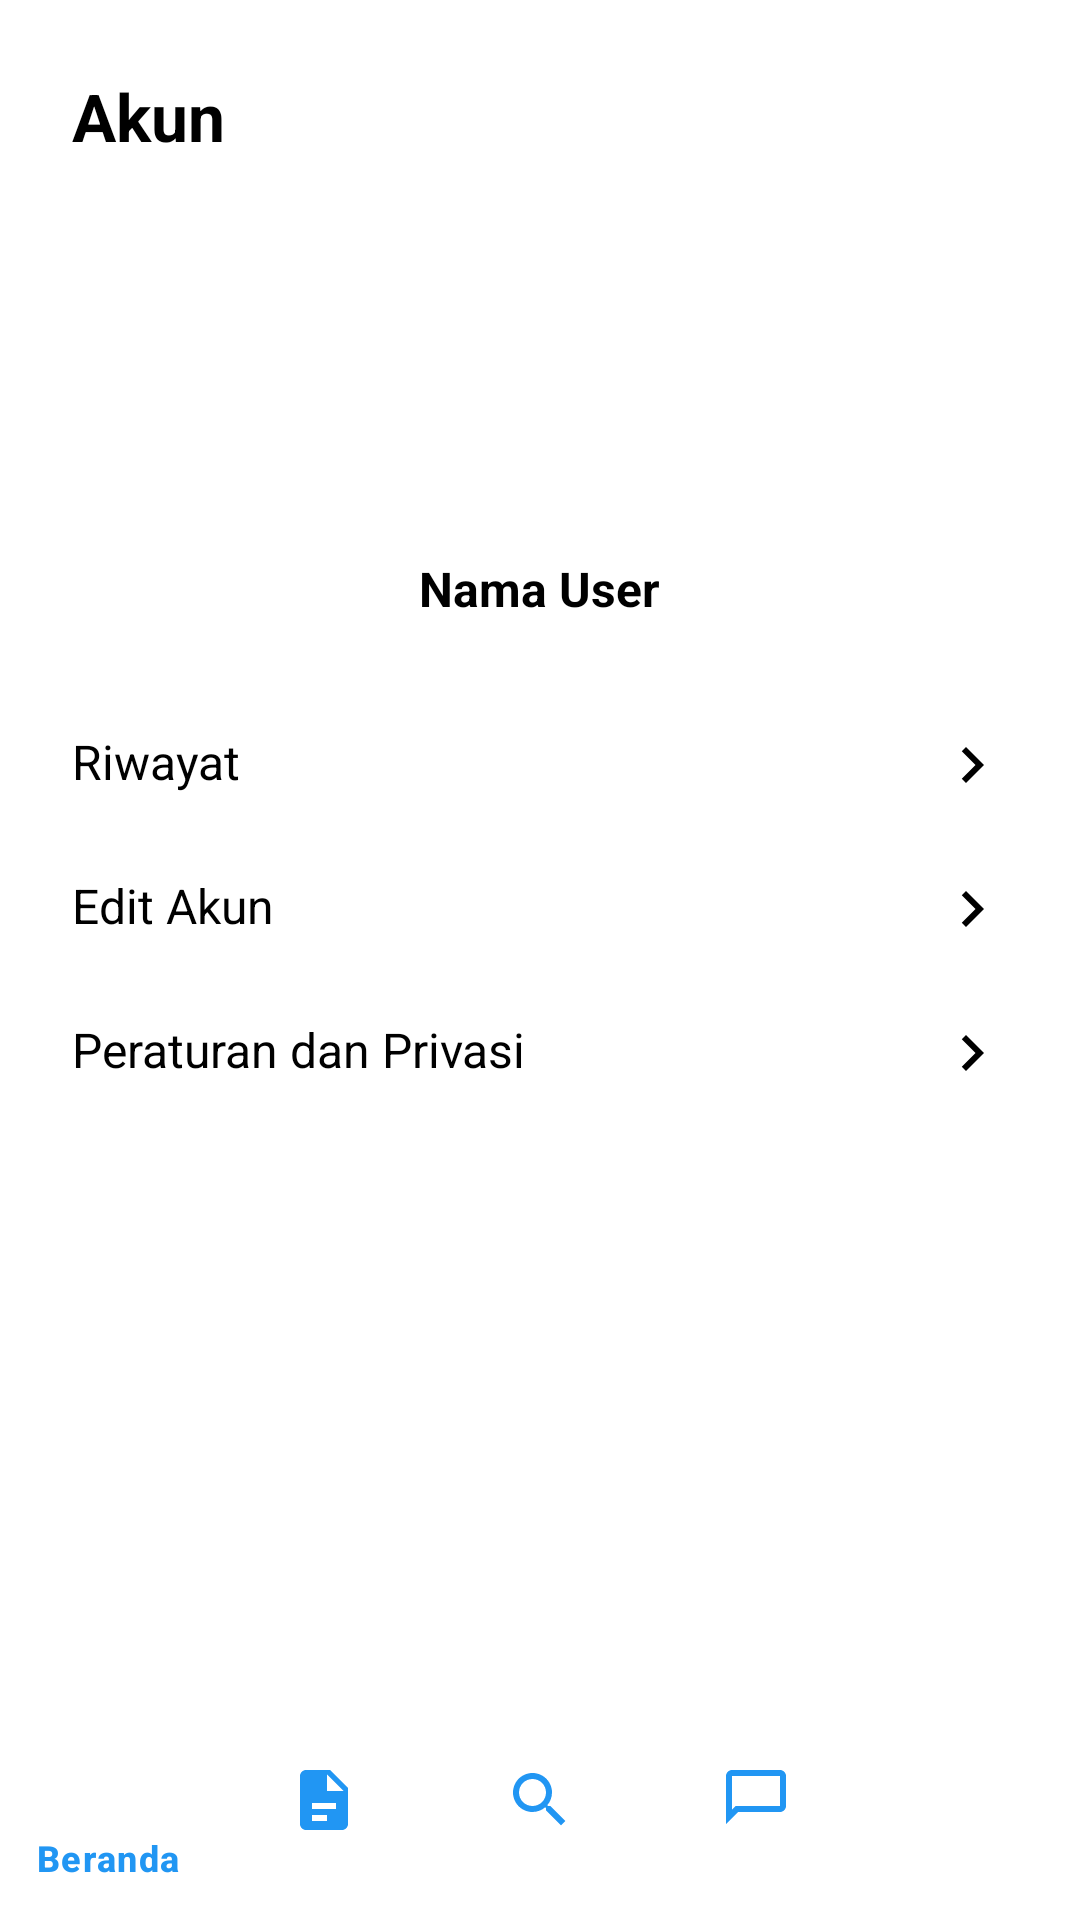

Where to tap for icons on this 1080×1920 app screen, as (x,y):
arrow right: (973,765), (973,909), (973,1053)
